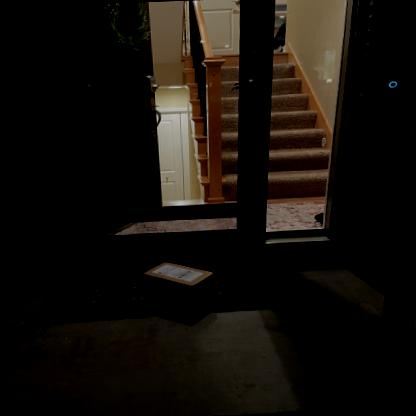box: (140, 250, 219, 309)
